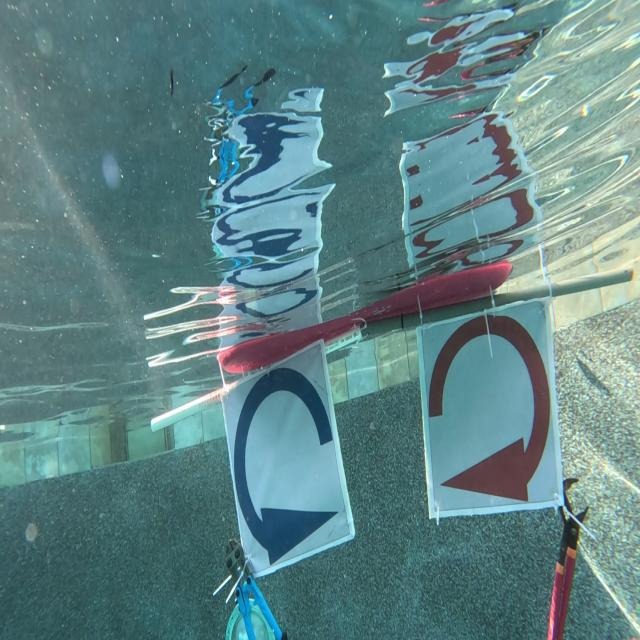blue_side: (231, 362, 344, 573)
red_side: (430, 308, 550, 512)
